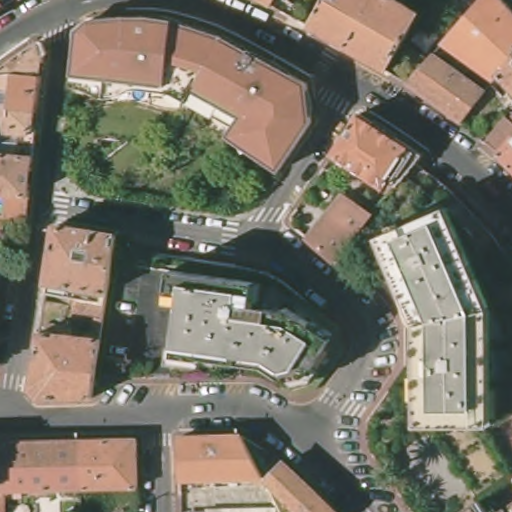pool: (128, 88, 150, 102)
